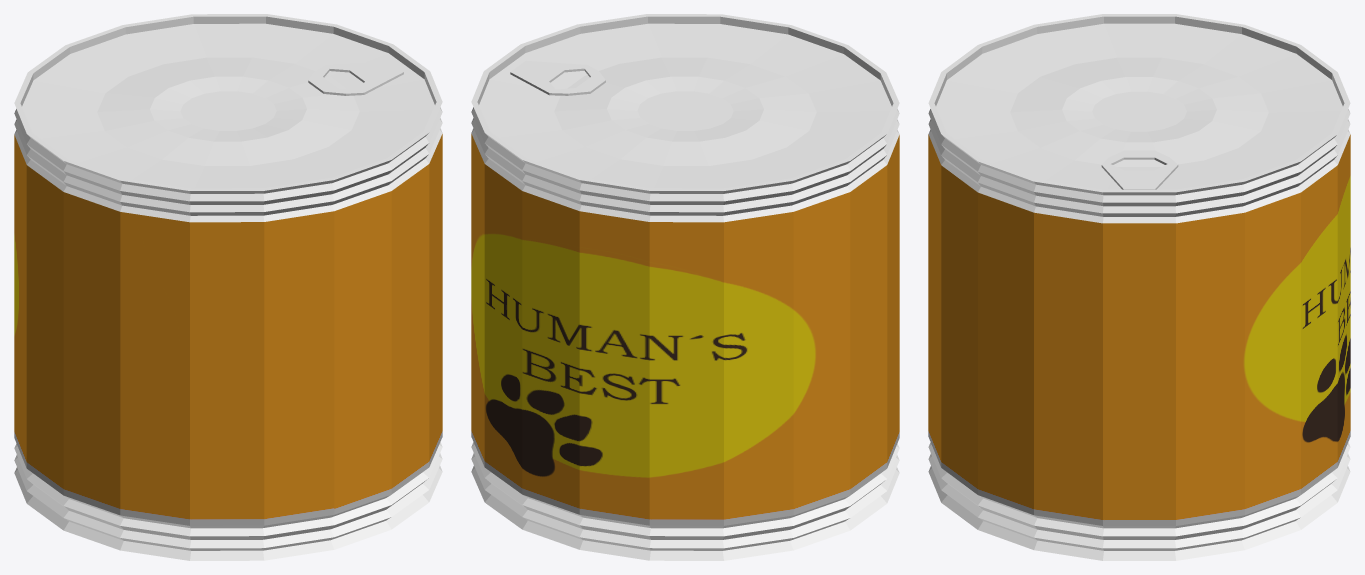
The model's file is Humans_Best.fbx.
3 views of the same model, side by side, from view 1: azimuth 30°, elevation 25°; view 2: azimuth 150°, elevation 25°; view 3: azimuth 270°, elevation 25° (orthographic).
Parts seen in each view (by area): view 1: Meatfarm-Dogfood; view 2: Meatfarm-Dogfood; view 3: Meatfarm-Dogfood.
Part boxes in pixels (left/top/right/bottom): Meatfarm-Dogfood: left=14, top=14, right=442, bottom=560; Meatfarm-Dogfood: left=471, top=14, right=899, bottom=560; Meatfarm-Dogfood: left=928, top=14, right=1350, bottom=560.
Bounding box in the file's own units: 12 × 11.56 × 12.
Materials: 2 (2 with a texture image).
